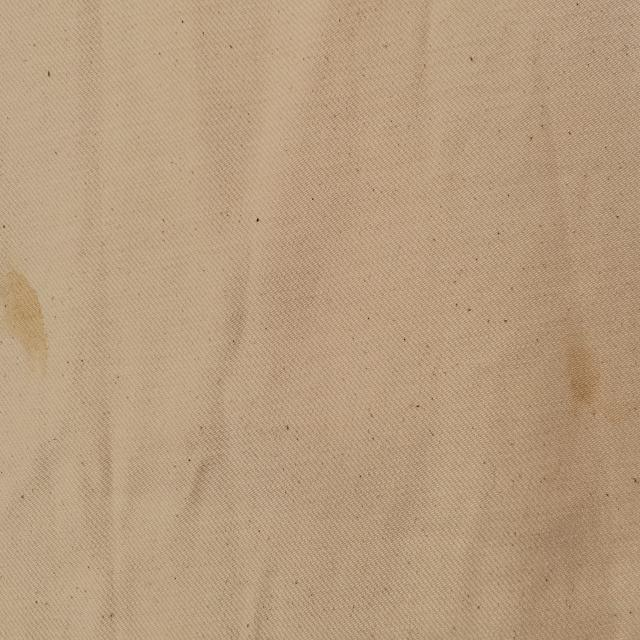taaaches: (1, 248, 48, 360), (566, 312, 600, 422)
